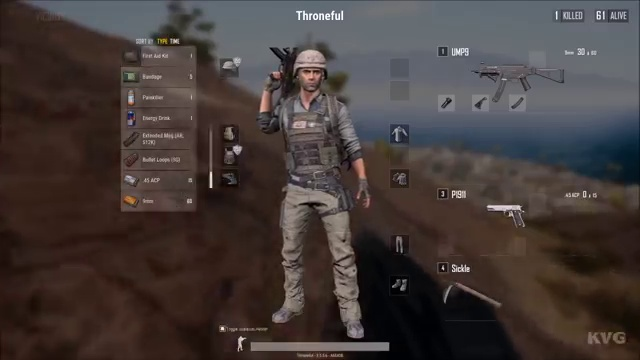Player: (259, 46, 375, 326)
